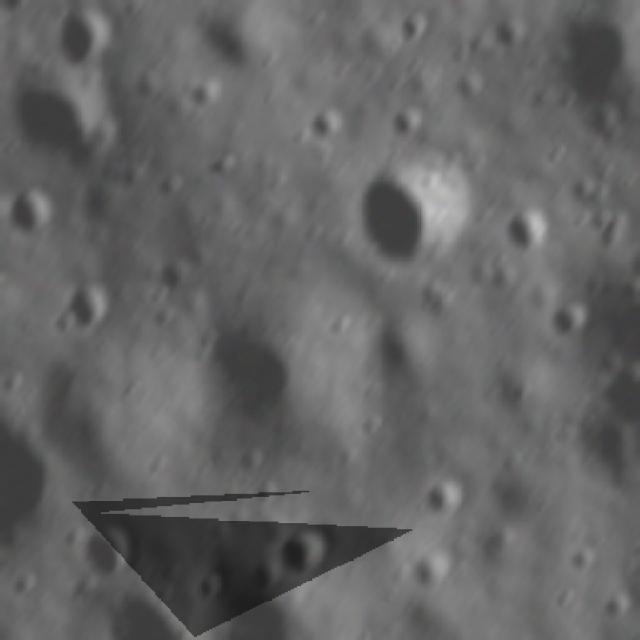crater: (202, 315, 322, 437), (353, 150, 470, 270), (7, 71, 105, 175), (561, 5, 639, 109), (368, 320, 442, 392), (48, 7, 121, 73), (72, 518, 145, 584), (51, 273, 117, 342), (272, 520, 337, 582), (3, 186, 62, 243), (502, 203, 558, 260), (406, 540, 462, 594), (542, 293, 596, 344), (419, 472, 466, 522), (147, 251, 195, 295), (306, 103, 349, 146), (153, 166, 193, 206), (189, 571, 228, 611), (494, 15, 531, 56), (396, 10, 432, 48), (455, 68, 490, 107), (566, 544, 600, 578)
